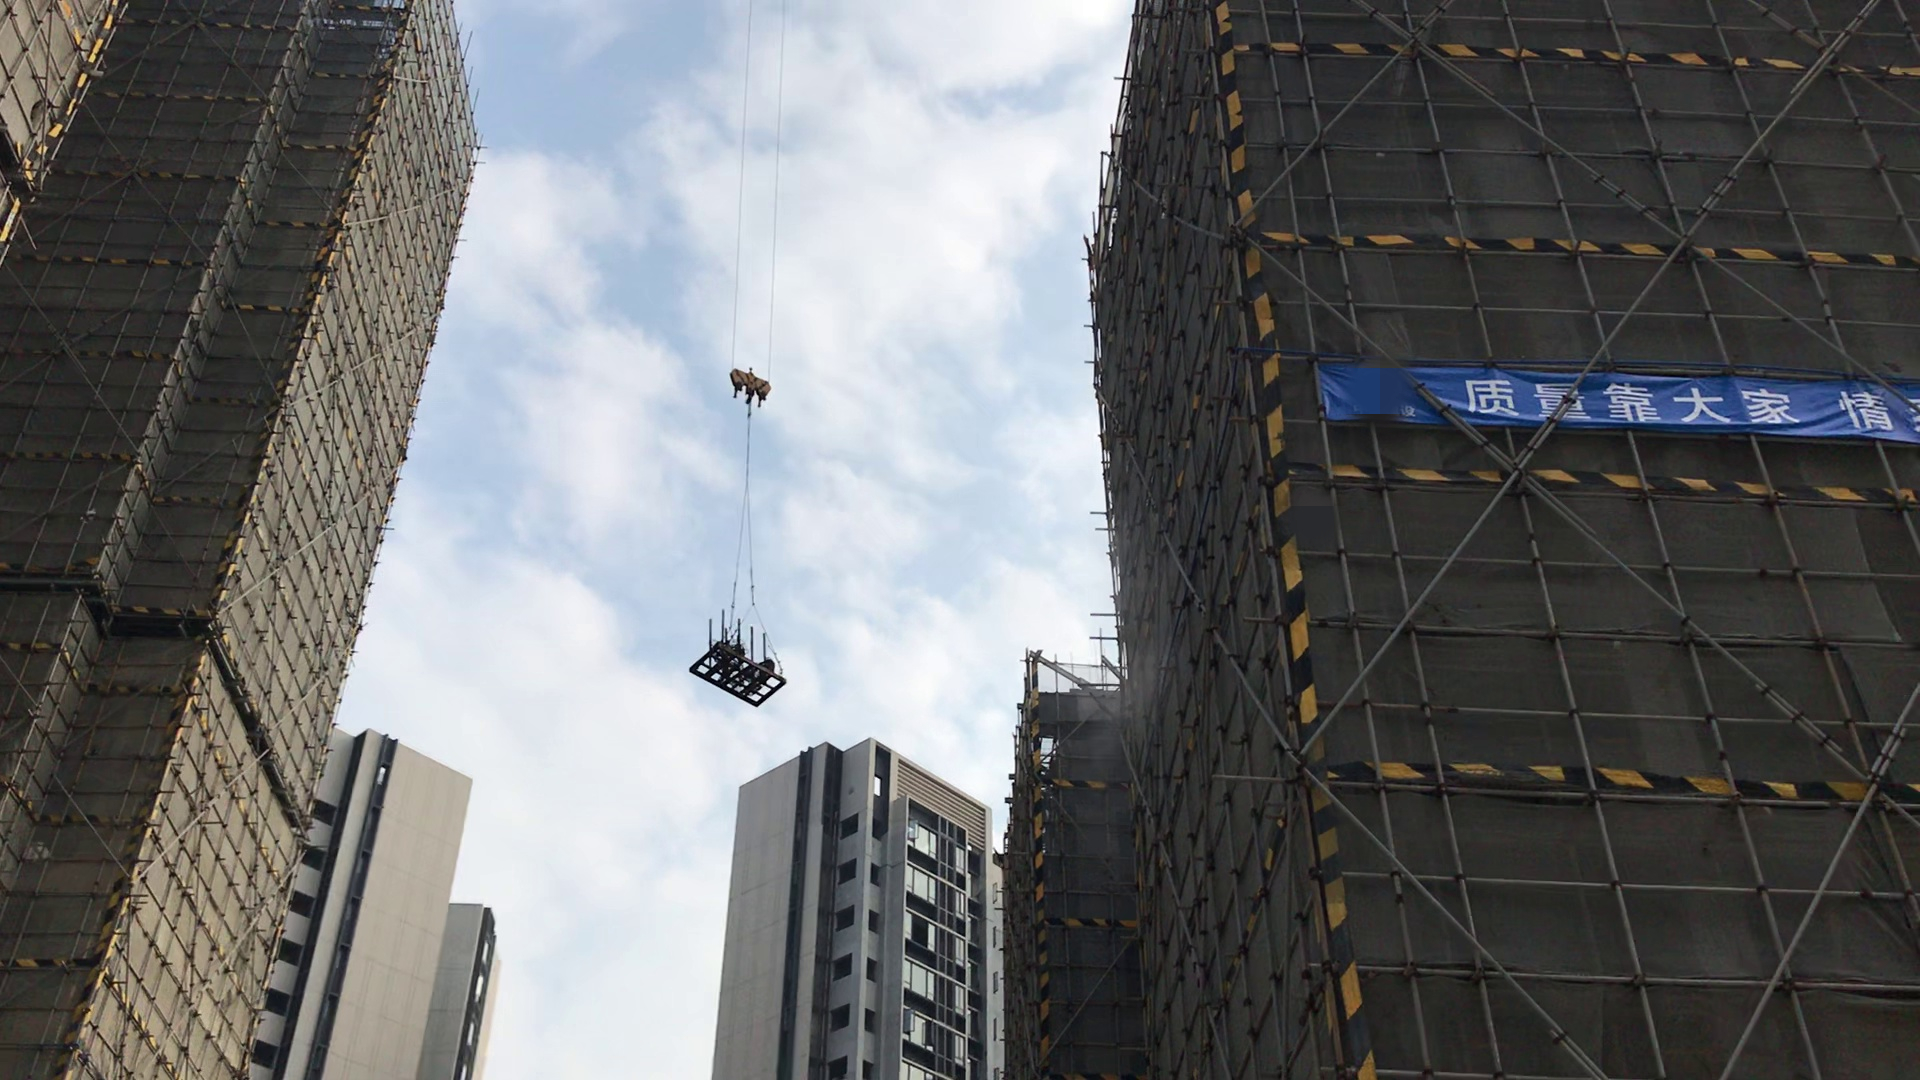hook: (731, 353, 785, 406)
slogan: (1350, 352, 1920, 469)
